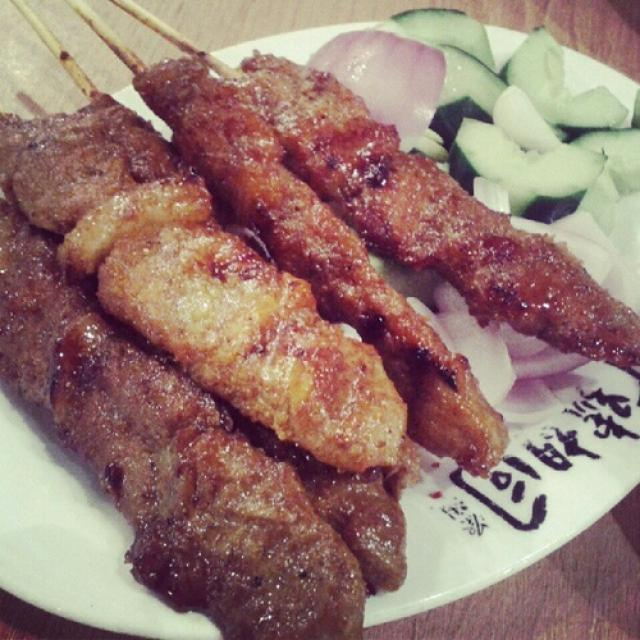牛肉菜式: (5, 28, 612, 631)
